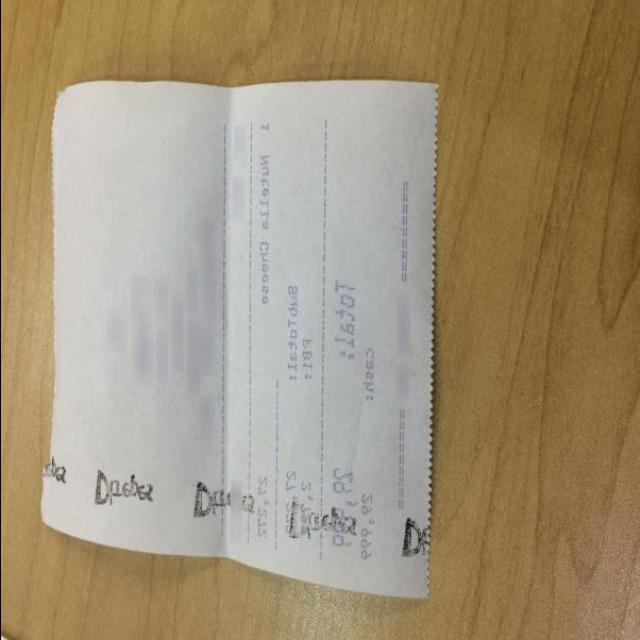kertas: (39, 70, 442, 598)
